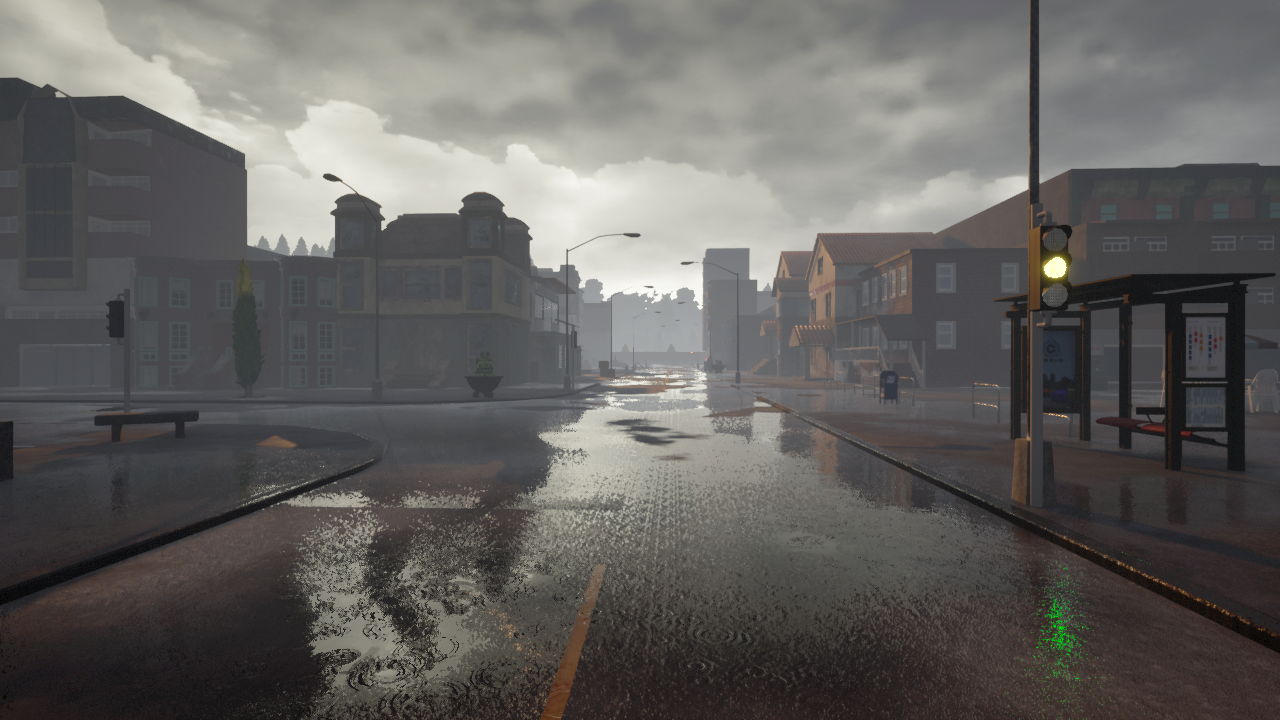yellow: (1029, 217, 1072, 316)
